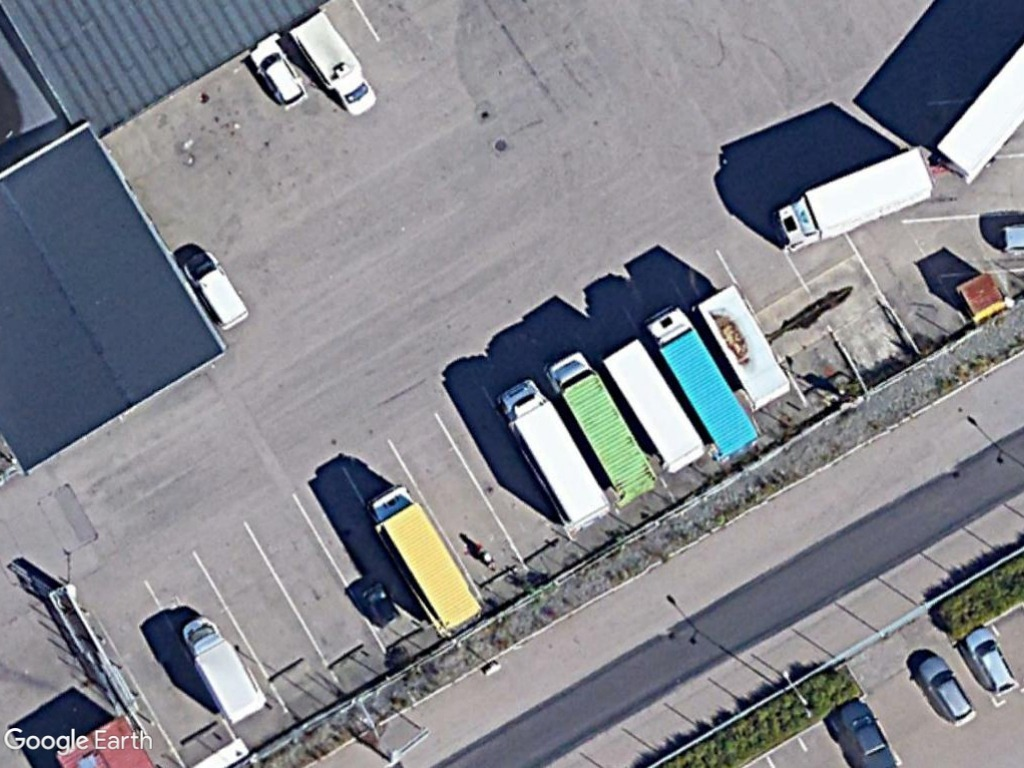car: (916, 647, 981, 730), (246, 38, 311, 113), (960, 620, 1018, 698)
truck: (366, 481, 486, 639), (494, 375, 614, 531), (546, 346, 660, 504), (643, 302, 758, 458), (770, 148, 942, 251), (180, 610, 270, 729), (288, 10, 382, 121)
van: (180, 244, 257, 335)
